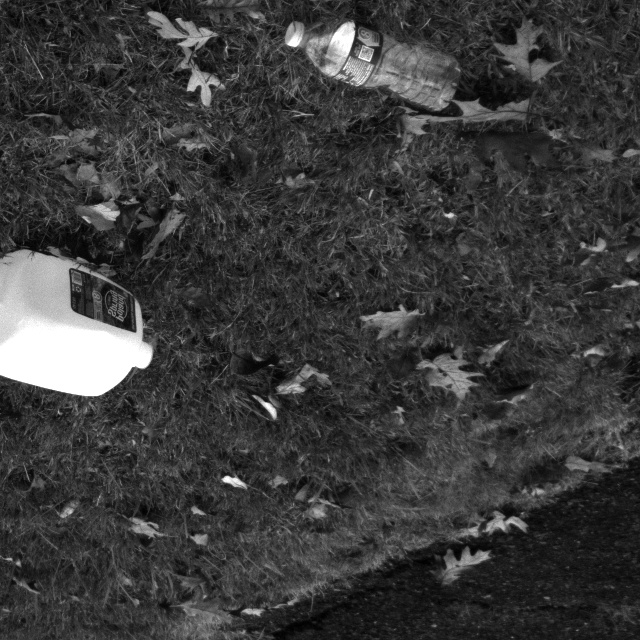bottle: (278, 7, 463, 122)
can: (0, 235, 156, 405)
